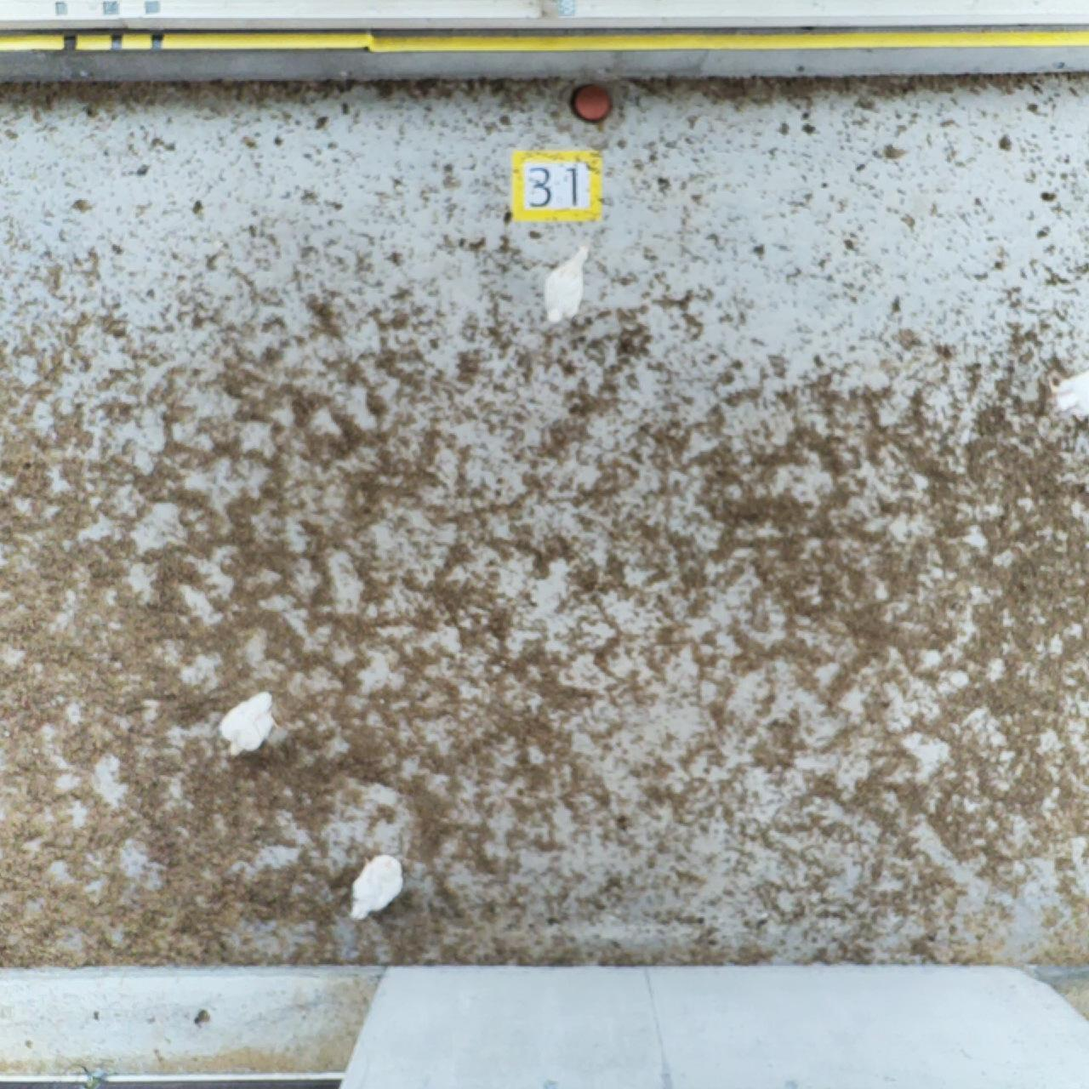chicken: (219, 688, 285, 755), (541, 243, 587, 321), (351, 856, 402, 919), (1049, 363, 1089, 425)
